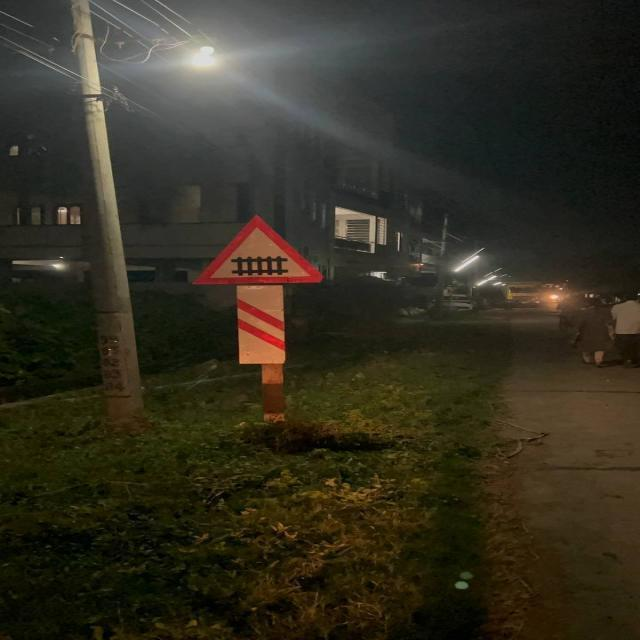guarded level crossing: (186, 211, 326, 286)
